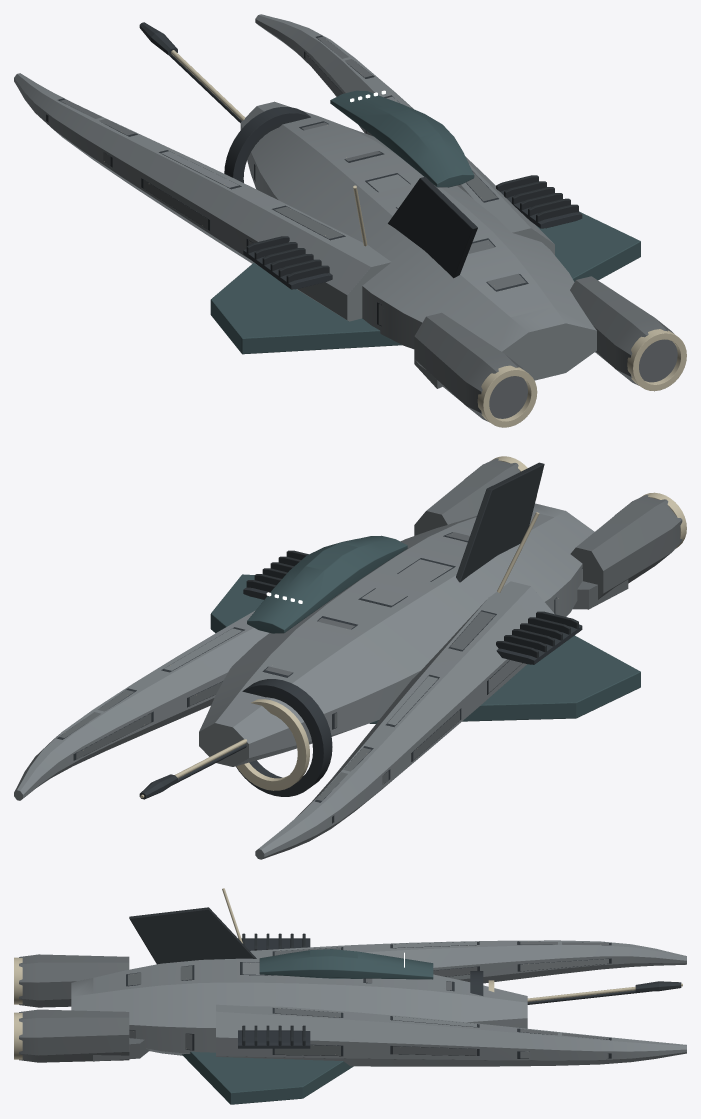
The model's file is frigate_lantern.glb.
3 views of the same model, one above another, from view 1: azimuth 30°, elevation 25°; view 2: azimuth 150°, elevation 25°; view 3: azimuth 270°, elevation 25° (orthographic). The views are drawn at different scales.
Parts seen in each view (by area): view 1: v4_council_hull, v4_council_paint, v4_council_secondary, v4_council_ceramic, v4_council_dark, v4_council_trim; view 2: v4_council_hull, v4_council_paint, v4_council_secondary, v4_council_ceramic, v4_council_dark, v4_council_trim; view 3: v4_council_hull, v4_council_secondary, v4_council_paint, v4_council_ceramic, v4_council_dark, v4_council_trim.
Part boxes in pixels (x1,y1,x2,y2): v4_council_hull: [14, 14, 596, 380]; v4_council_paint: [210, 90, 640, 354]; v4_council_secondary: [48, 36, 677, 422]; v4_council_ceramic: [246, 175, 578, 282]; v4_council_dark: [46, 22, 582, 326]; v4_council_trim: [71, 50, 686, 427]; v4_council_hull: [14, 503, 594, 859]; v4_council_paint: [210, 535, 640, 723]; v4_council_secondary: [59, 458, 682, 821]; v4_council_ceramic: [246, 462, 578, 658]; v4_council_dark: [56, 532, 582, 823]; v4_council_trim: [65, 456, 686, 798]; v4_council_hull: [71, 940, 686, 1066]; v4_council_secondary: [19, 941, 634, 1062]; v4_council_paint: [182, 949, 433, 1104]; v4_council_ceramic: [129, 907, 305, 1045]; v4_council_dark: [126, 938, 681, 1058]; v4_council_trim: [14, 888, 682, 1059].
Size of the model in its own units: 13.43 by 5.84 by 26.01.
